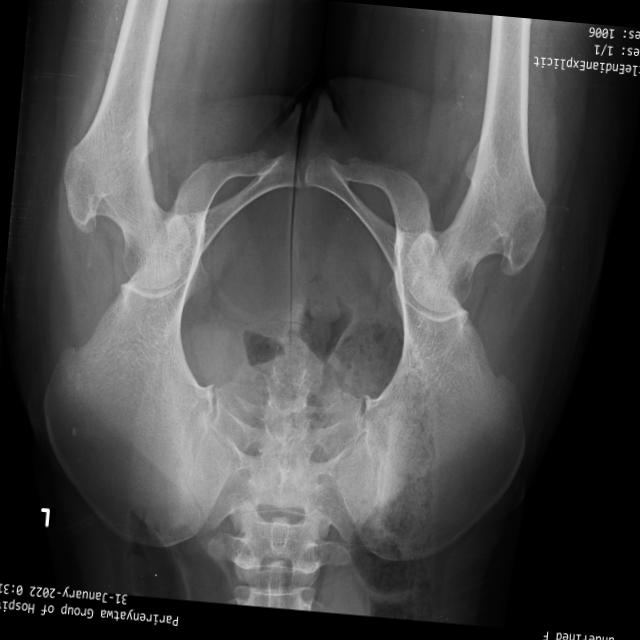normal-left: (62, 0, 190, 288)
normal-right: (405, 14, 545, 311)
